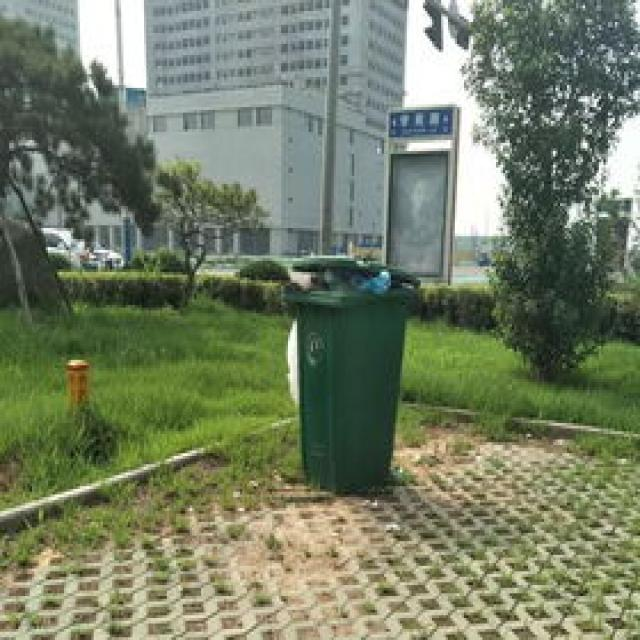overflow: (283, 250, 423, 492)
